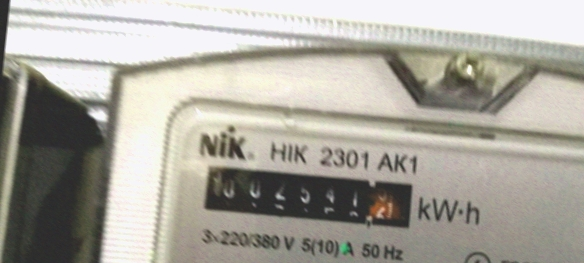0: (218, 171, 239, 199), (246, 171, 263, 200)
1: (346, 180, 362, 208)
2: (270, 174, 289, 200)
4: (322, 178, 338, 202)
5: (295, 175, 316, 205)
6: (372, 199, 389, 219)
screen: (190, 147, 429, 241)
